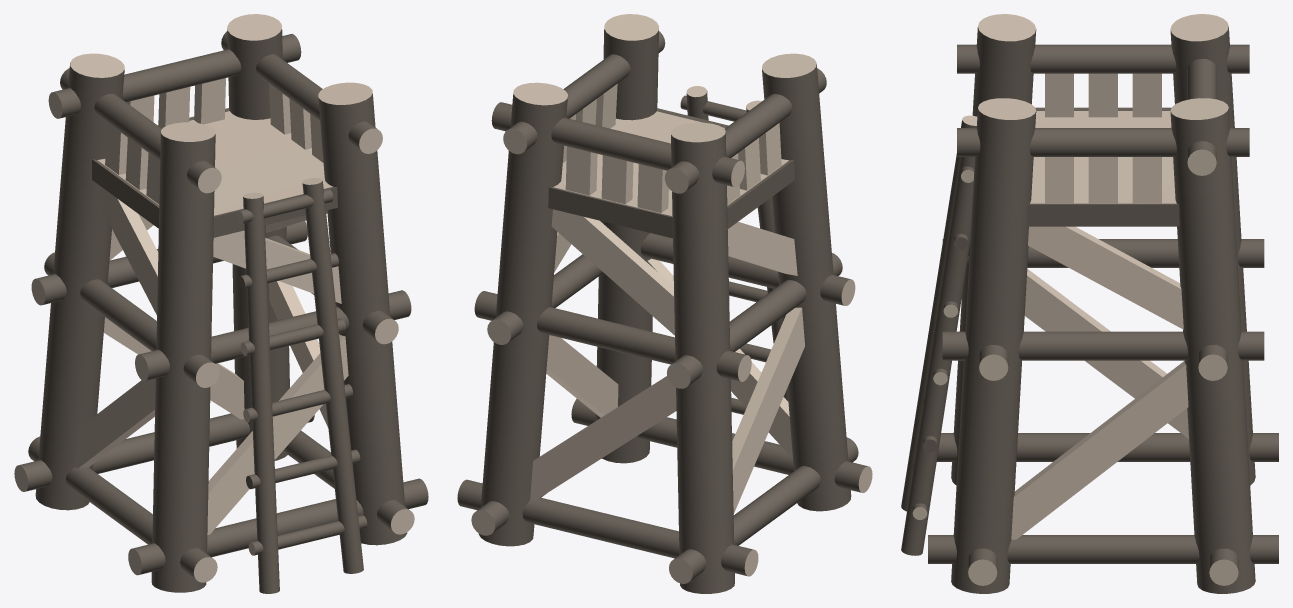
The model's file is tower.fbx.
3 views of the same model, side by side, from view 1: azimuth 30°, elevation 25°; view 2: azimuth 150°, elevation 25°; view 3: azimuth 270°, elevation 25° (orthographic). The views are drawn at different scales.
Visible parts, largest first — view 1: pCube3; view 2: pCube3; view 3: pCube3.
Boxes of the visible parts, bbox=[...] form: pCube3: bbox=[14, 14, 428, 593]; pCube3: bbox=[457, 14, 872, 593]; pCube3: bbox=[901, 14, 1278, 593].
Bounding box in the file's own units: 480 × 704 × 517.
